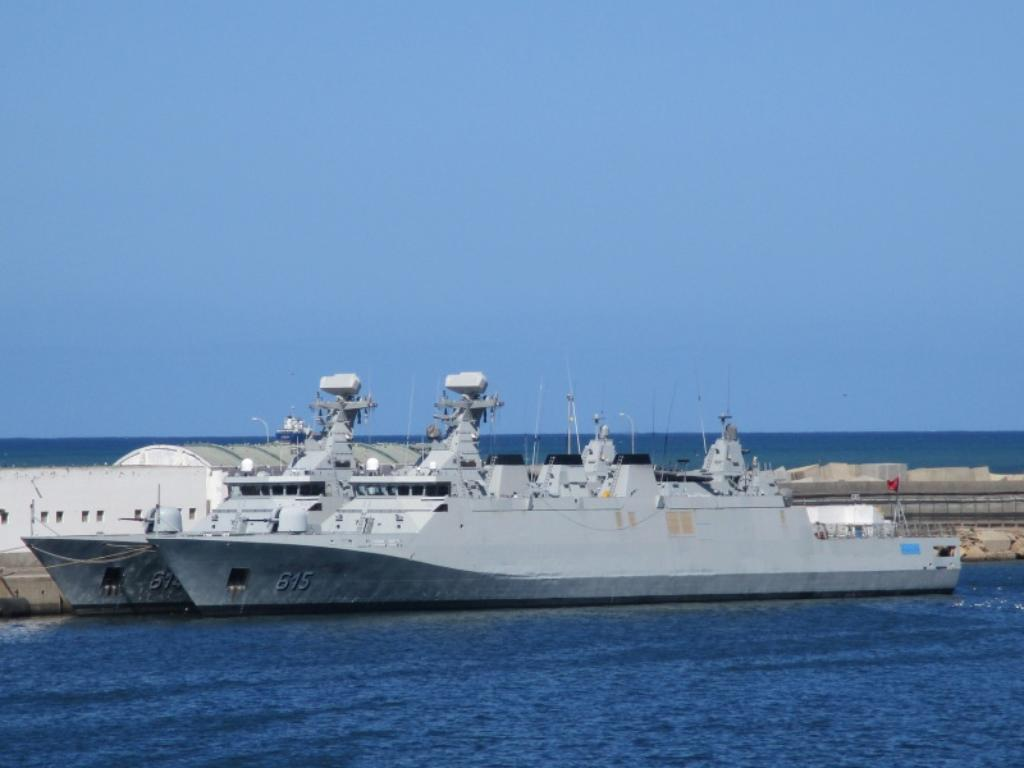Warship: (143, 366, 969, 622), (20, 362, 448, 616)
